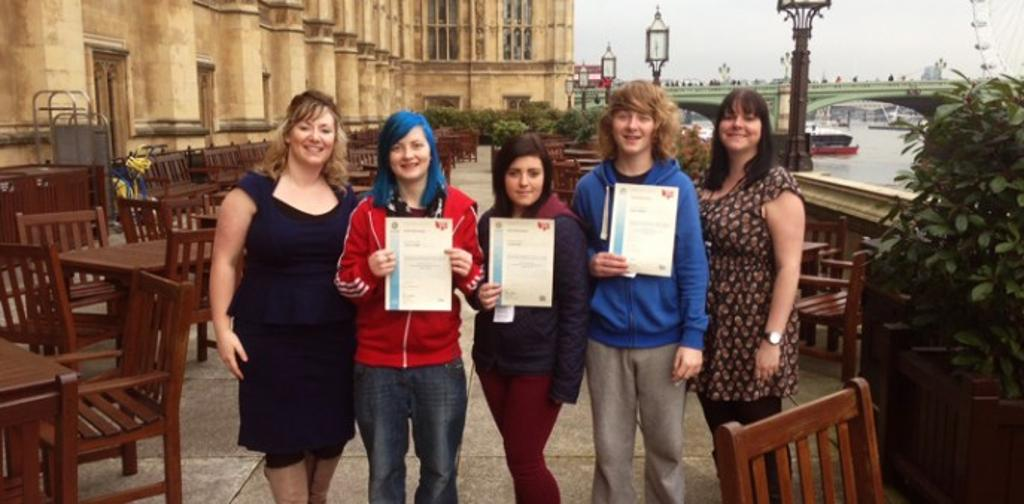face: (291, 109, 334, 164), (611, 99, 654, 152), (388, 128, 430, 178), (718, 104, 760, 149), (504, 159, 543, 205)
